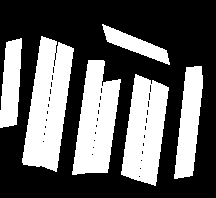parkingspot: (22, 36, 56, 166), (40, 42, 73, 171), (72, 60, 104, 174), (174, 66, 202, 178), (121, 74, 150, 180), (139, 80, 168, 185), (90, 79, 120, 172), (102, 24, 169, 64), (0, 38, 21, 127)
